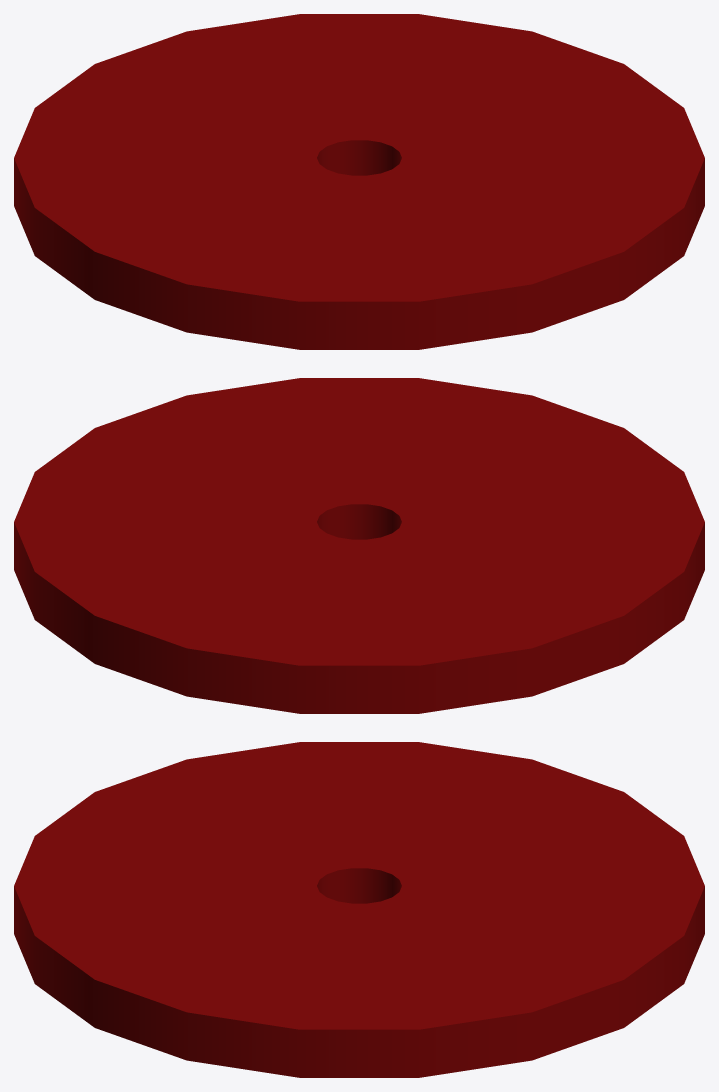
Rendered from Disco1.fbx.
3 views of the same model, one above another, from view 1: azimuth 30°, elevation 25°; view 2: azimuth 150°, elevation 25°; view 3: azimuth 270°, elevation 25° (orthographic).
Parts seen in each view (by area): view 1: Disc 2; view 2: Disc 2; view 3: Disc 2.
Boxes of the visible parts, x1,y1,x2,y2 form: Disc 2: (14,14,704,349); Disc 2: (14,378,704,713); Disc 2: (14,742,704,1077).
Size of the model in its own units: 128 by 10 by 130.
